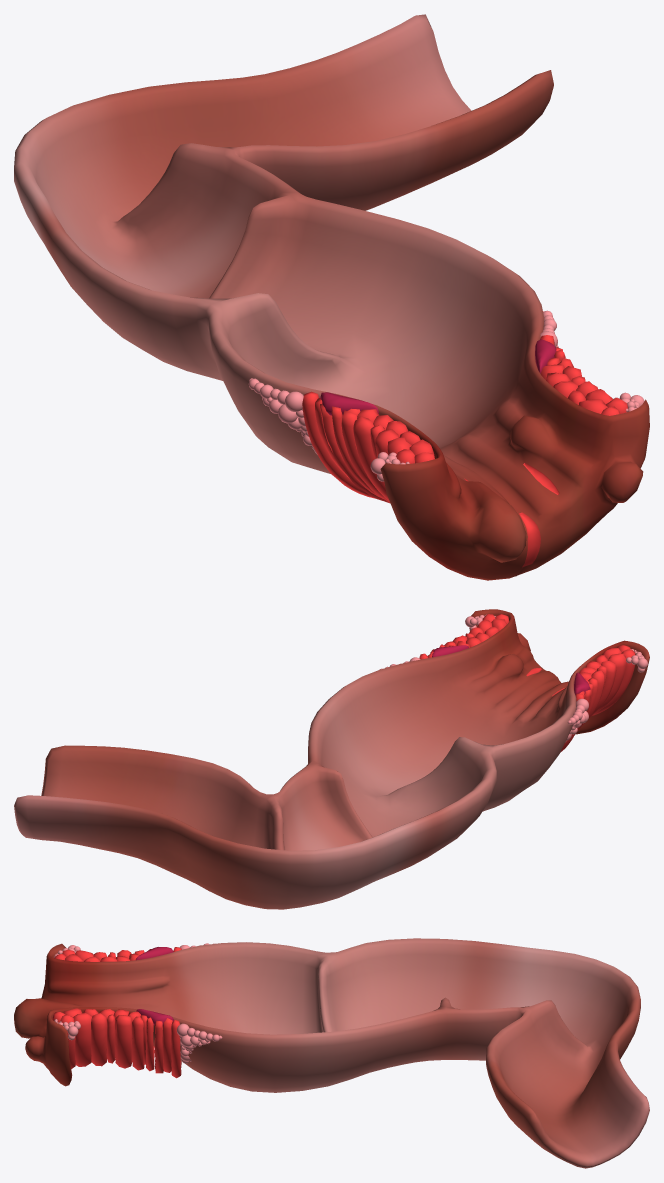
Rendered from Rectum.glb.
3 renders of one model, top to bottom at view 1: azimuth 30°, elevation 25°; view 2: azimuth 150°, elevation 25°; view 3: azimuth 270°, elevation 25°, orthographic. The views are drawn at different scales.
Parts seen in each view (by area): view 1: Rectum_v01; view 2: Rectum_v01; view 3: Rectum_v01.
Boxes of the visible parts, <box> form: Rectum_v01: <box>14,14,649,580</box>; Rectum_v01: <box>14,609,649,909</box>; Rectum_v01: <box>14,938,649,1168</box>.
Bounding box in the file's own units: 2.93 × 0.7699 × 4.5.
4 materials, 1 textured.
